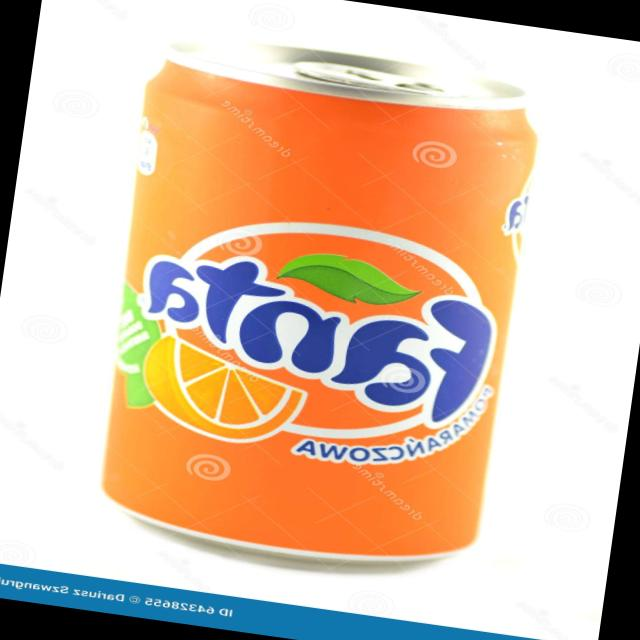fanta: (80, 14, 560, 594)
